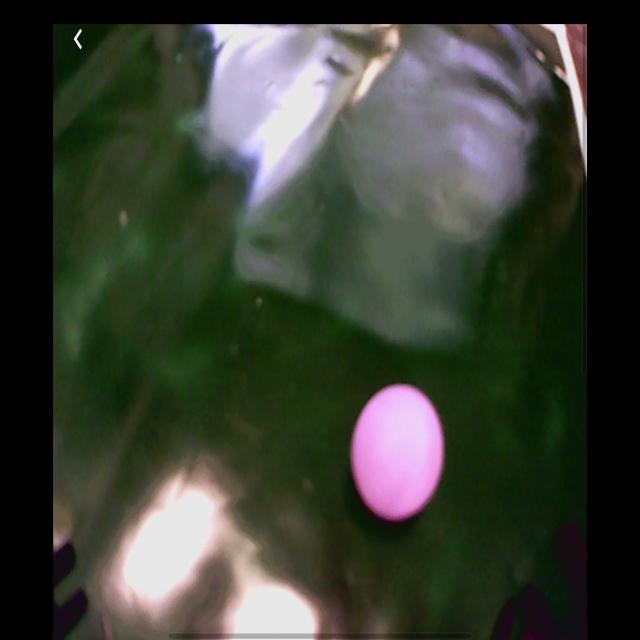ball: (351, 380, 446, 525)
